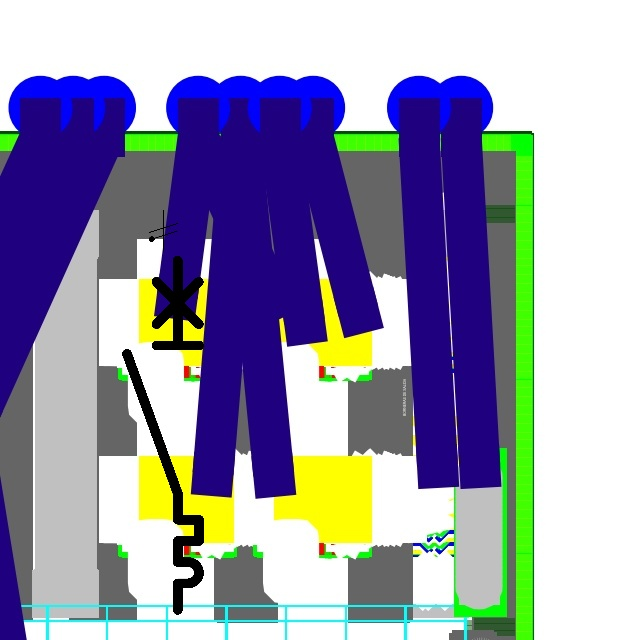interruptor_termomagnetico: (118, 251, 208, 619)
